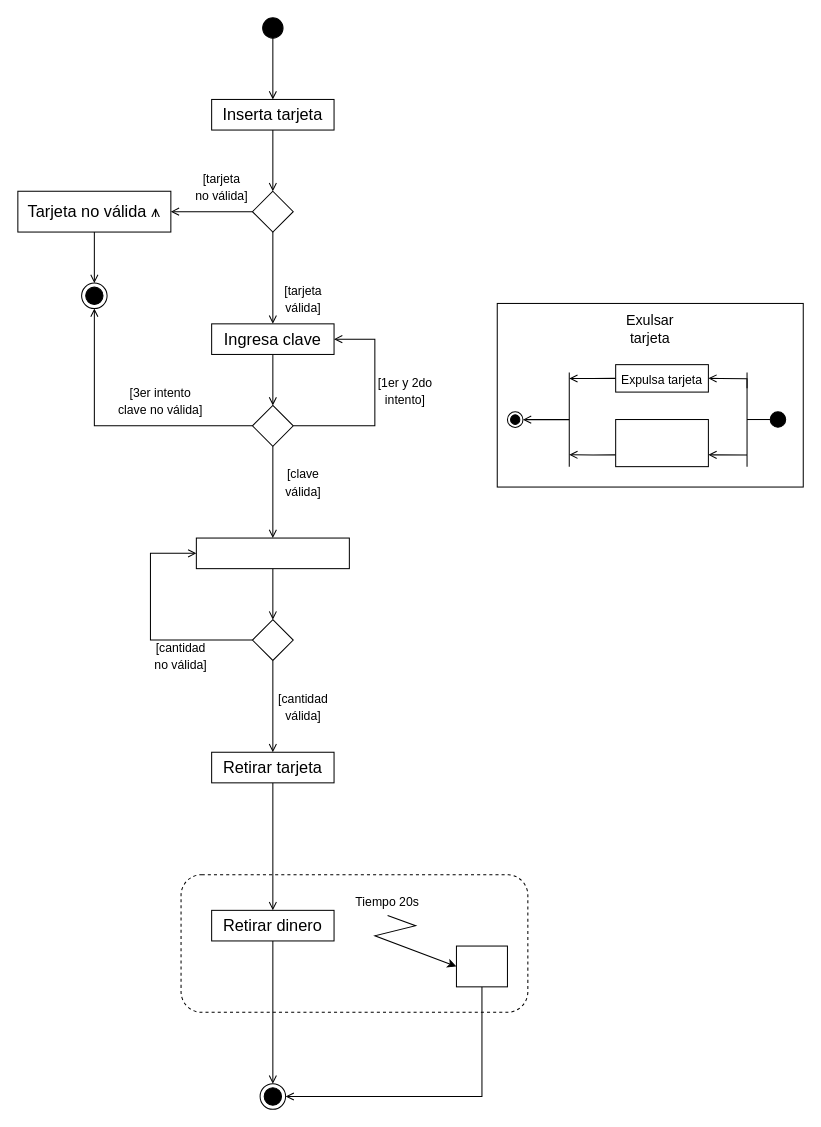
This 821x1127 diagram has some shape labels left out. Each missing label, with the centre of its shape:
Introduce cantidad: the point at 272,553
Muestra mensaje error: the point at 661,443
Retener dinero: the point at 481,966
